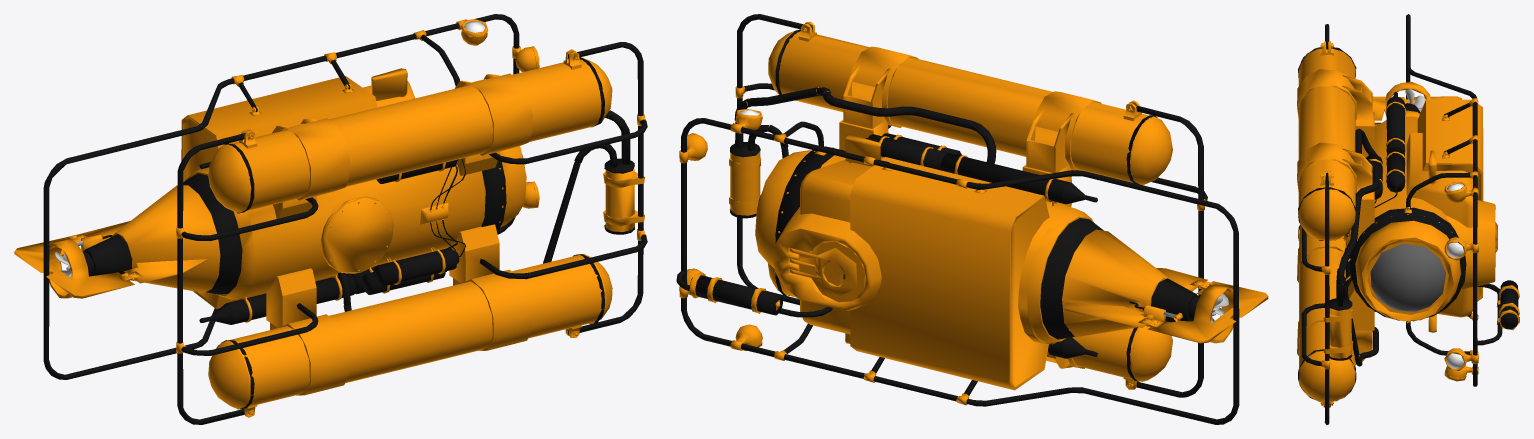
The model's file is submarine.obj.
3 views of the same model, side by side, from view 1: azimuth 30°, elevation 25°; view 2: azimuth 150°, elevation 25°; view 3: azimuth 270°, elevation 25° (orthographic). The views are drawn at different scales.
Parts seen in each view (by area): view 1: Model; view 2: Model; view 3: Model.
Part boxes in pixels (<box>): Model: <box>14,14,647,424</box>; Model: <box>676,14,1268,424</box>; Model: <box>1297,14,1519,424</box>.
Size of the model in its own units: 50.26 by 24.89 by 21.39.
